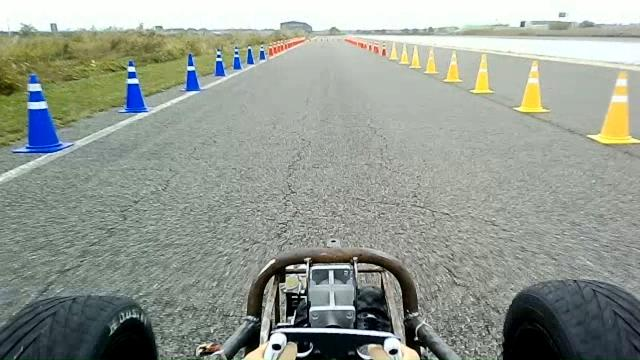blue cone: (11, 72, 74, 154), (118, 59, 149, 113), (180, 52, 201, 92), (213, 48, 226, 76), (232, 45, 242, 70), (246, 45, 255, 64), (258, 44, 266, 60)
red cone: (381, 42, 387, 56)
yellow cone: (587, 70, 639, 145), (513, 59, 550, 113), (469, 52, 495, 94), (442, 48, 462, 82), (423, 46, 439, 74), (408, 44, 422, 69), (399, 42, 409, 65), (388, 41, 398, 60)
